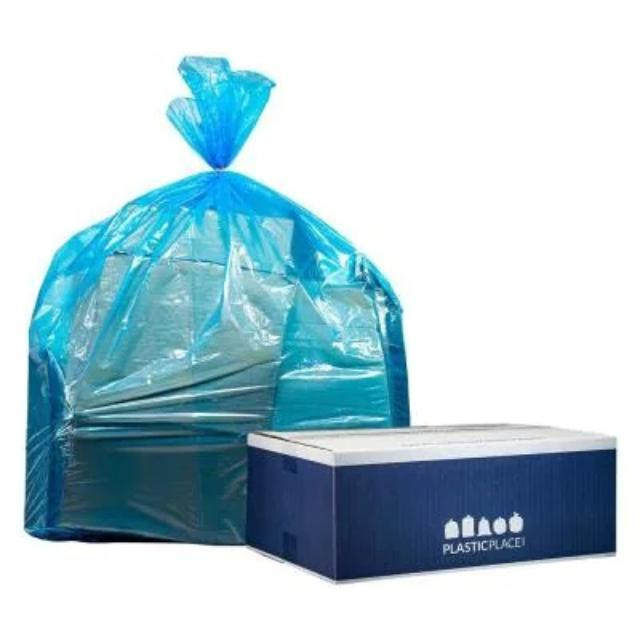plastic: (25, 57, 408, 543)
